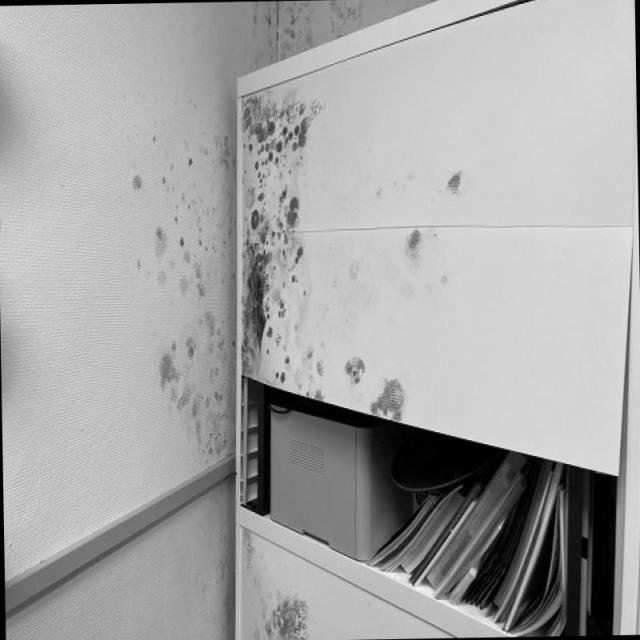stain marks: (106, 72, 478, 470), (243, 575, 342, 640)
